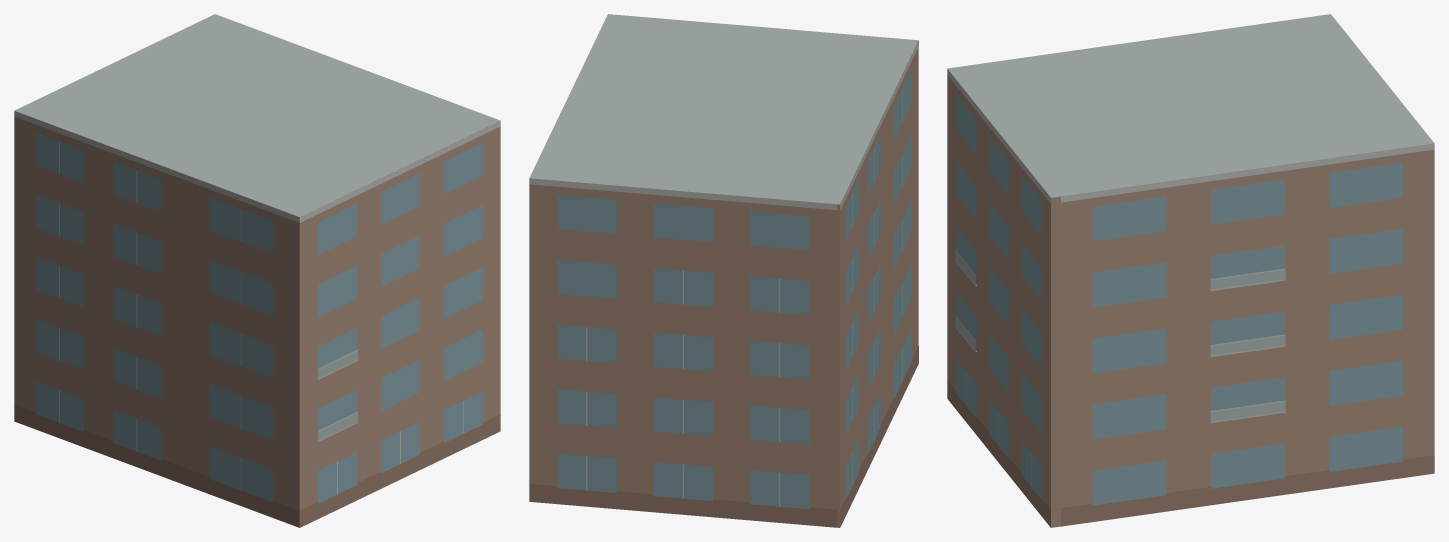
Rendered from survey-upis-32614140.glb.
The picture shows the model from 3 angles, left to right: view 1: azimuth 30°, elevation 25°; view 2: azimuth 150°, elevation 25°; view 3: azimuth 270°, elevation 25°; orthographic projection. The views are drawn at different scales.
Visible parts, largest first — view 1: survey-upis-32614140.tmp; view 2: survey-upis-32614140.tmp; view 3: survey-upis-32614140.tmp.
Part boxes in pixels (x1,y1,x2,y2): survey-upis-32614140.tmp: (14, 14, 500, 527); survey-upis-32614140.tmp: (529, 14, 918, 527); survey-upis-32614140.tmp: (947, 14, 1434, 527).
Size of the model in its own units: 15.78 by 13.2 by 17.68.
